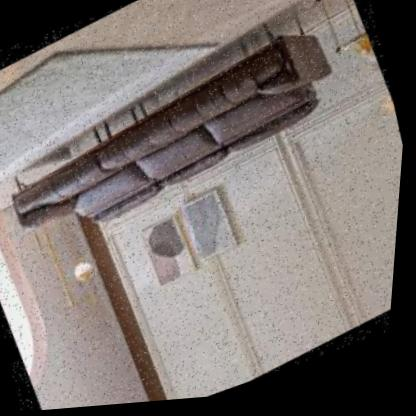Sofa: (0, 0, 377, 287)
